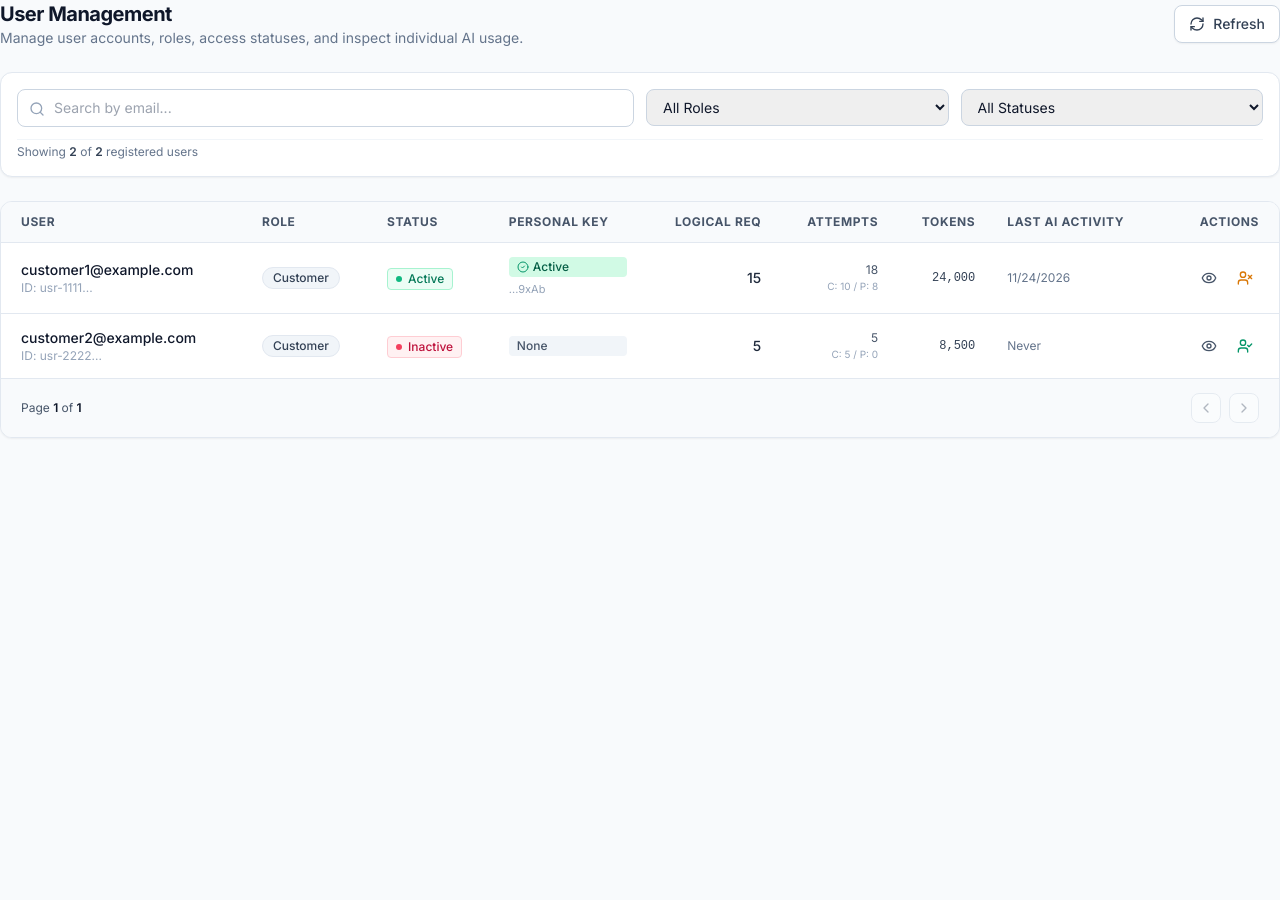
StoreFlow Phase 6D: Admin Dashboard Frontend Test Suite › 11. UserManagement opens user detail drawer with complete AI usage summary
This screenshot has width=1280, height=900.
Check: the text "customer1@example.com" is shown, box [21,261,194,278]
What coordinates should you click on to do the following:
click the button titled "View Full Profile & AI Usage" in the row of "customer1@example.com"
I would click on:
 (1209, 278)
Its box is [1195,264,1223,292].
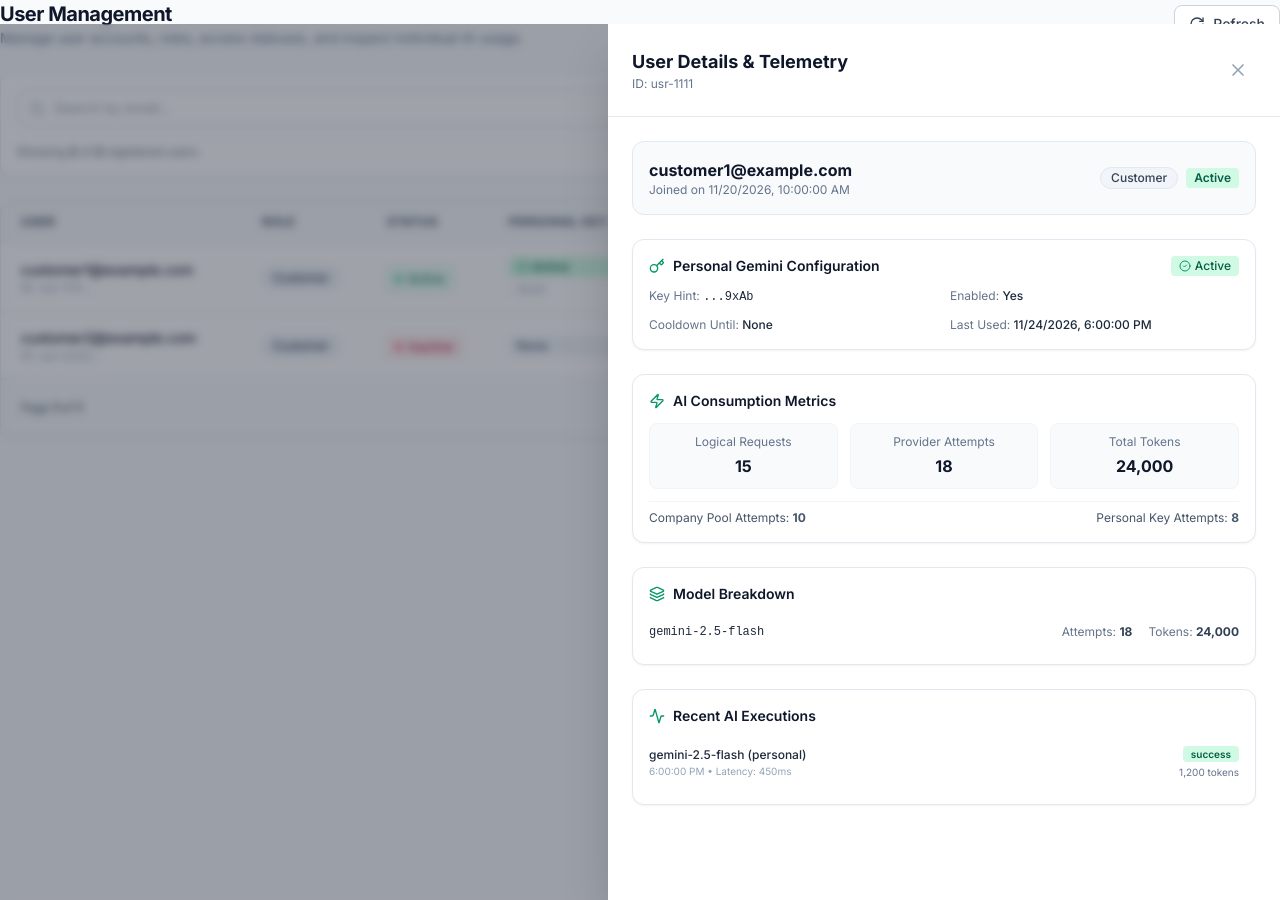
Check: the heading "User Details & Telemetry" is shown, box [632,48,848,76]
Check: the heading "AI Consumption Metrics" is shown, box [673,391,836,411]
Check: the heading "Personal Gemini Configuration" is shown, box [673,256,880,276]
